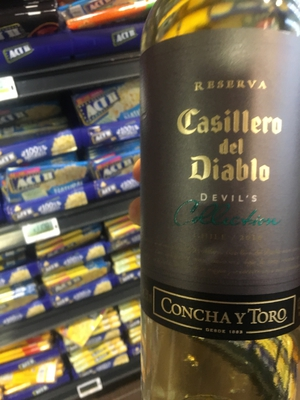casillero del diablo devils collection verde: (122, 11, 300, 388)
